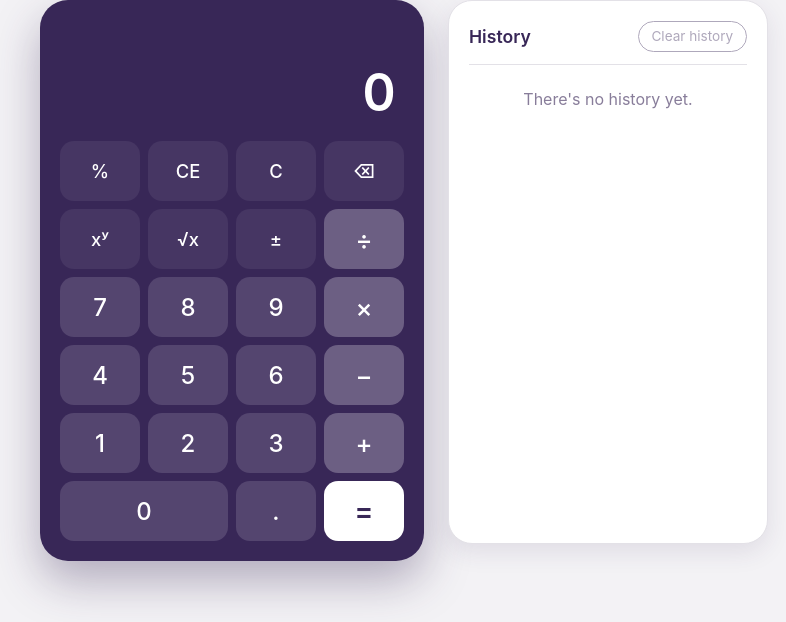
Test case: Calculator › calculates using the keypad
The width and height of the screenshot is (786, 622).
Click the button "1" at point(100, 443), box [60,413,140,473]
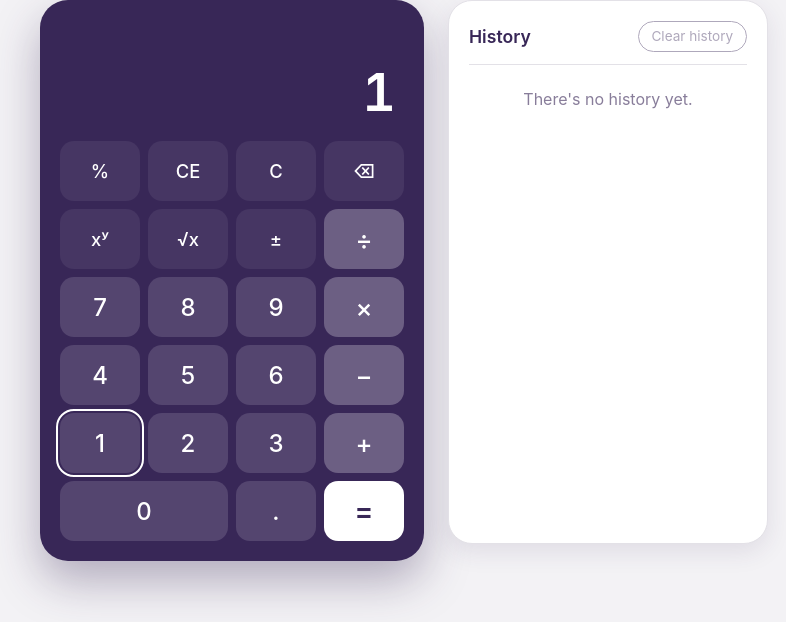
Click the button "2" at point(188, 443), box [148,413,228,473]
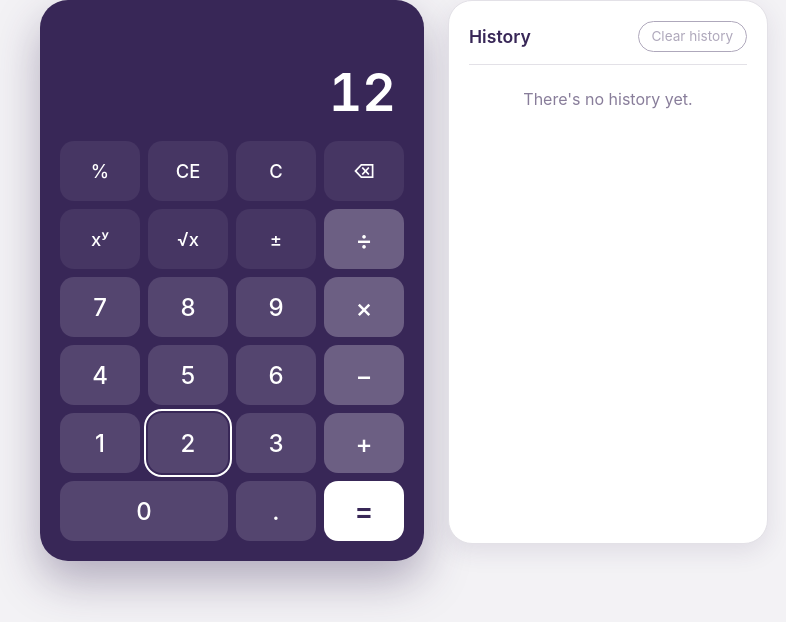
Click the button named "Add" at point(364, 443), box [324,413,404,473]
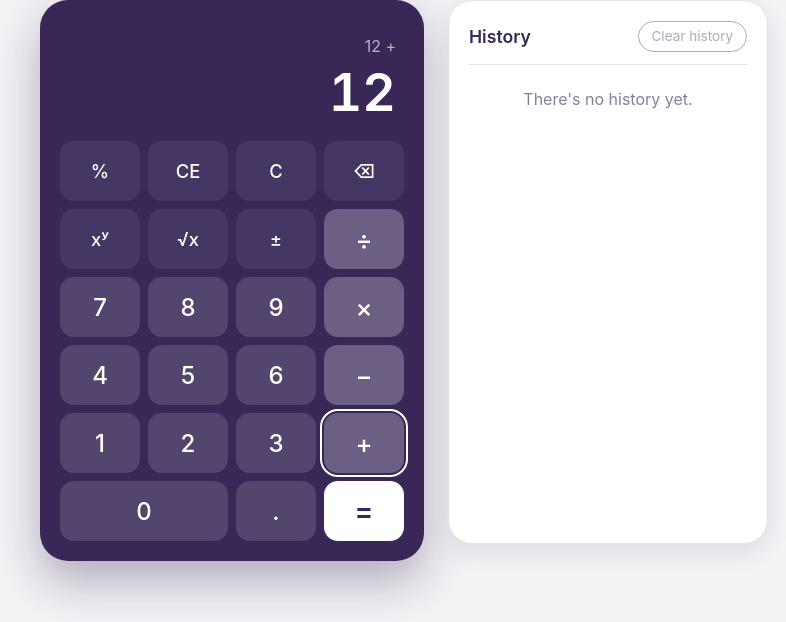
Click the button "3" at point(276, 443), box [236,413,316,473]
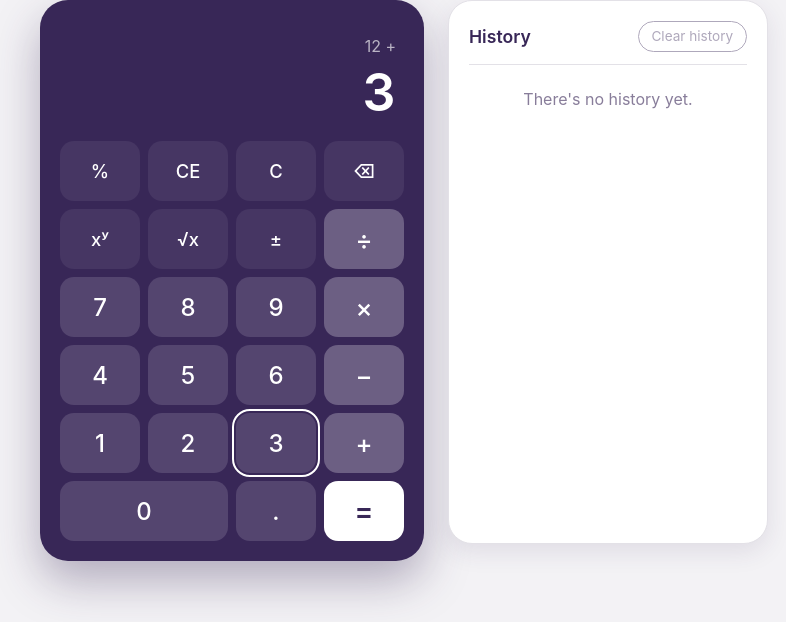
Click the button named "Equals" at point(364, 511), box [324,481,404,541]
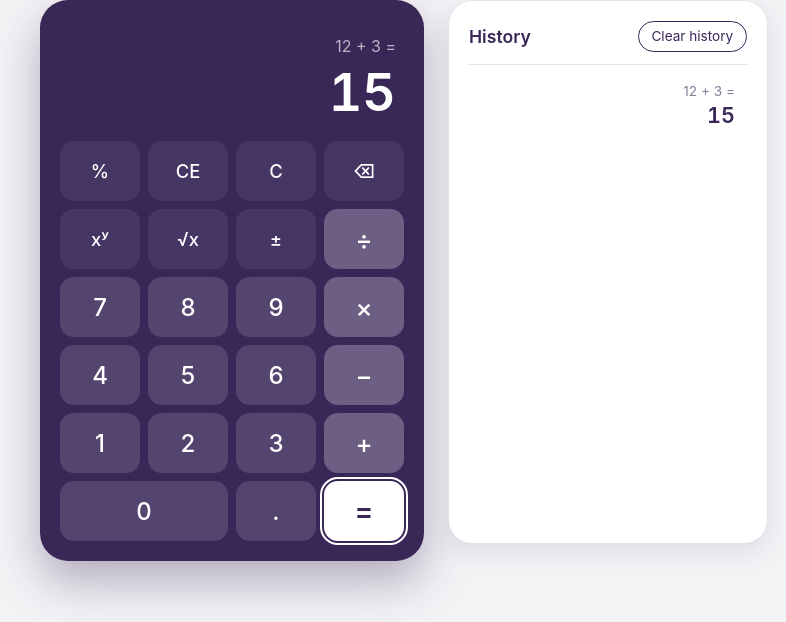
Expected: the text with test id "display-value" reads "15", [329,61,396,124]
Expected: the text with test id "display-expression" reads "12 + 3 =", [335,36,396,56]
